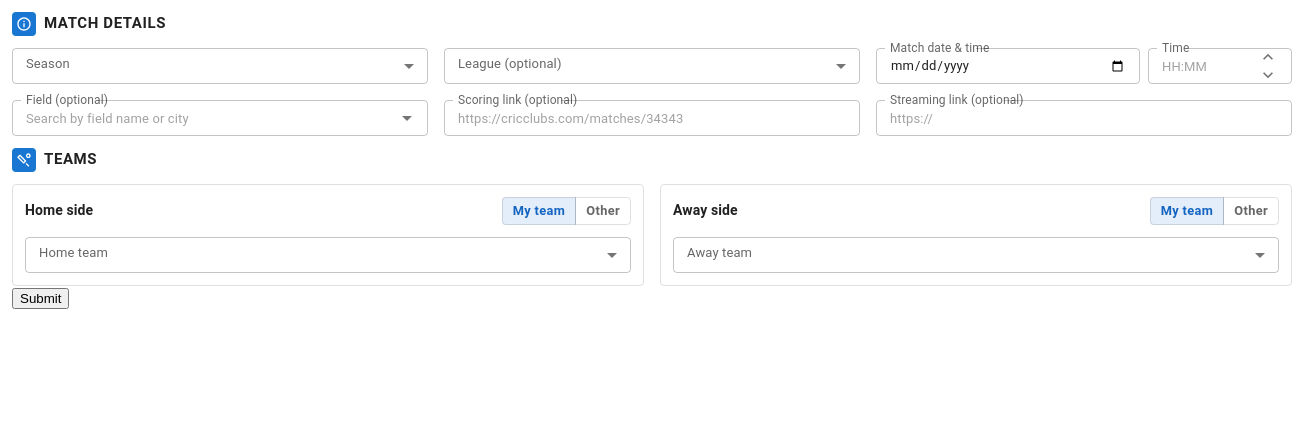
Test case: MatchForm › LeagueAffiliation narrowing › offers every team when no League is selected yet, even with affiliations loaded
This screenshot has width=1304, height=439.
Click the dropdown named "Home team" next to "Home team" at point(328, 255), box [25, 239, 631, 271]
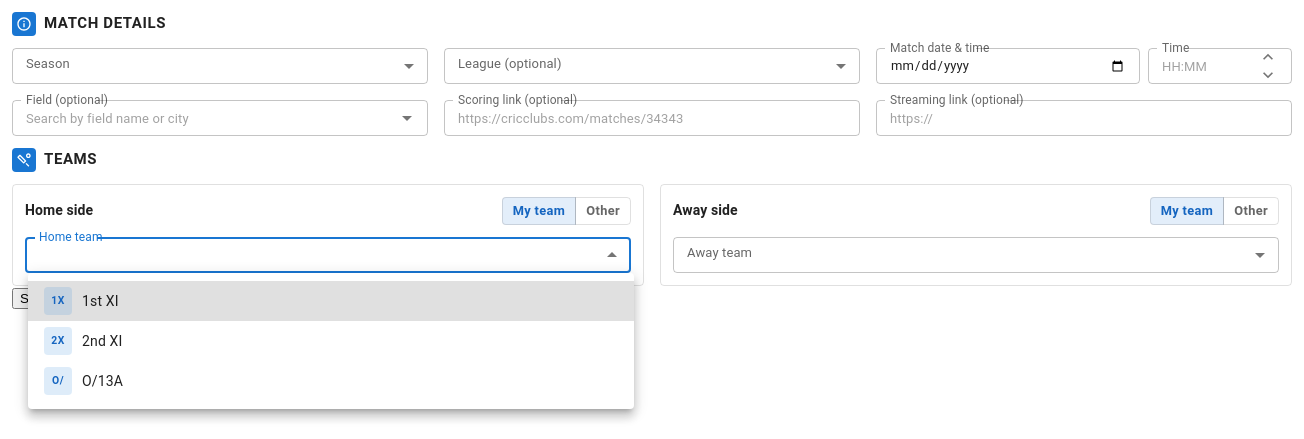
Result: the option "1X 1st XI" is shown at [28, 281, 634, 321]
Result: the option "2X 2nd XI" is shown at [44, 327, 122, 355]
Result: the option "O/ O/13A" is shown at [44, 367, 123, 395]
